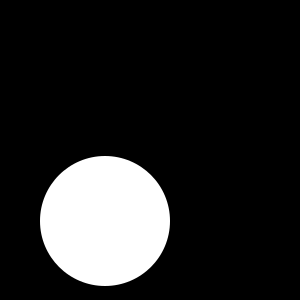rectangle: (40, 156, 170, 286)
